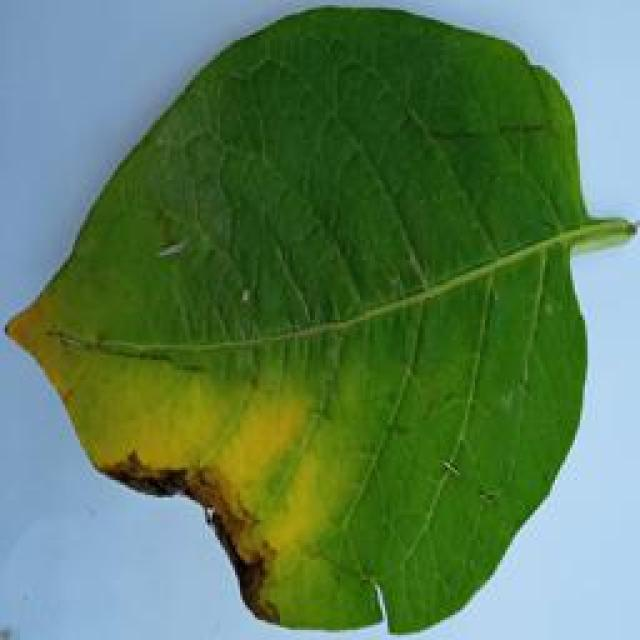Potato_Late_Blight: (7, 6, 625, 634)
